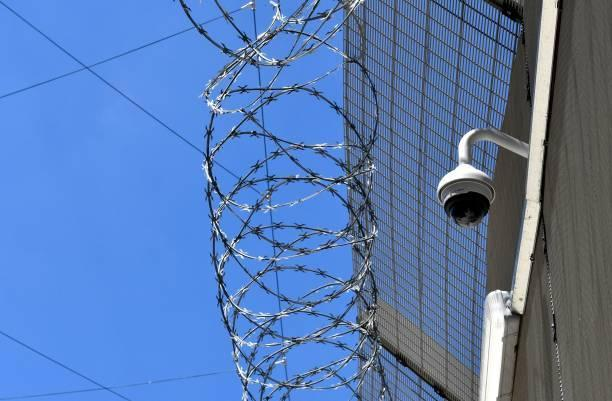camera: (427, 151, 502, 253)
